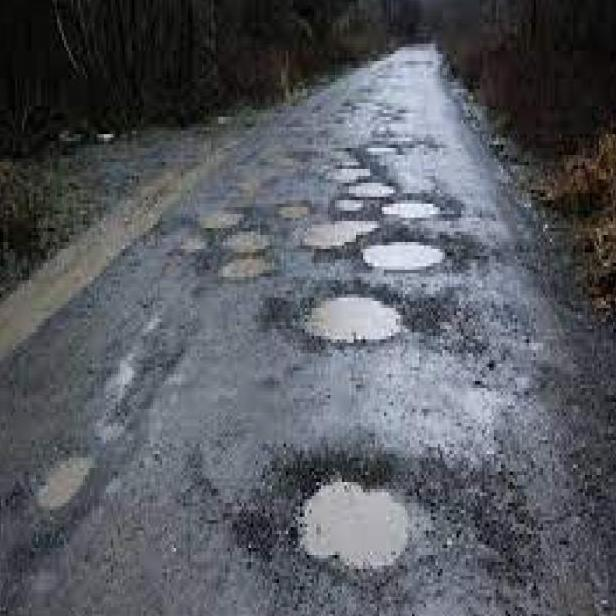pothole: (282, 465, 423, 581), (294, 287, 408, 358), (34, 459, 96, 511), (362, 238, 449, 272), (299, 215, 379, 251), (378, 196, 450, 223), (218, 256, 279, 285), (222, 223, 274, 252), (343, 174, 393, 197), (319, 166, 373, 184), (273, 199, 315, 222), (196, 210, 244, 229), (332, 198, 370, 213), (364, 141, 402, 155)
